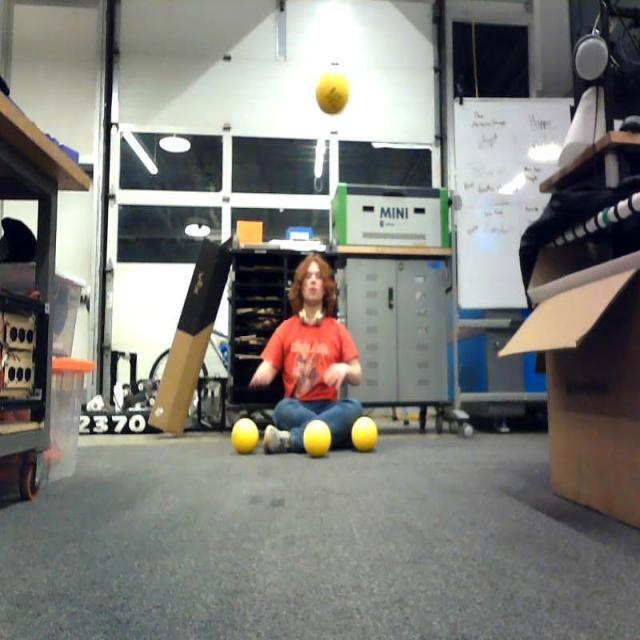Fuel: (316, 69, 350, 115), (231, 418, 259, 454), (304, 420, 331, 457), (351, 416, 378, 452)
